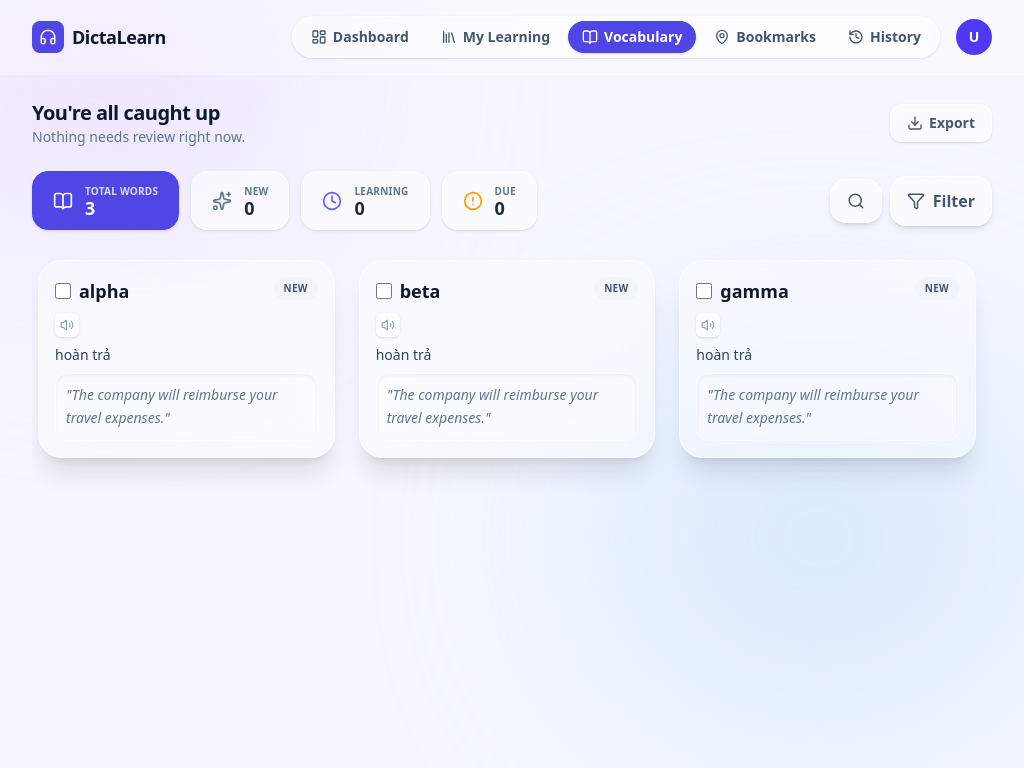
Scenario: VocabularyPage › multi-select and bulk delete › clears the selection via Clear selection
Expected: the number of elements with test id "vocab-card" is 3, [38, 260, 335, 458]; [359, 260, 655, 458]; [679, 260, 976, 458]
Click the checkbox named "Select alpha" at (63, 291), box [55, 283, 71, 299]
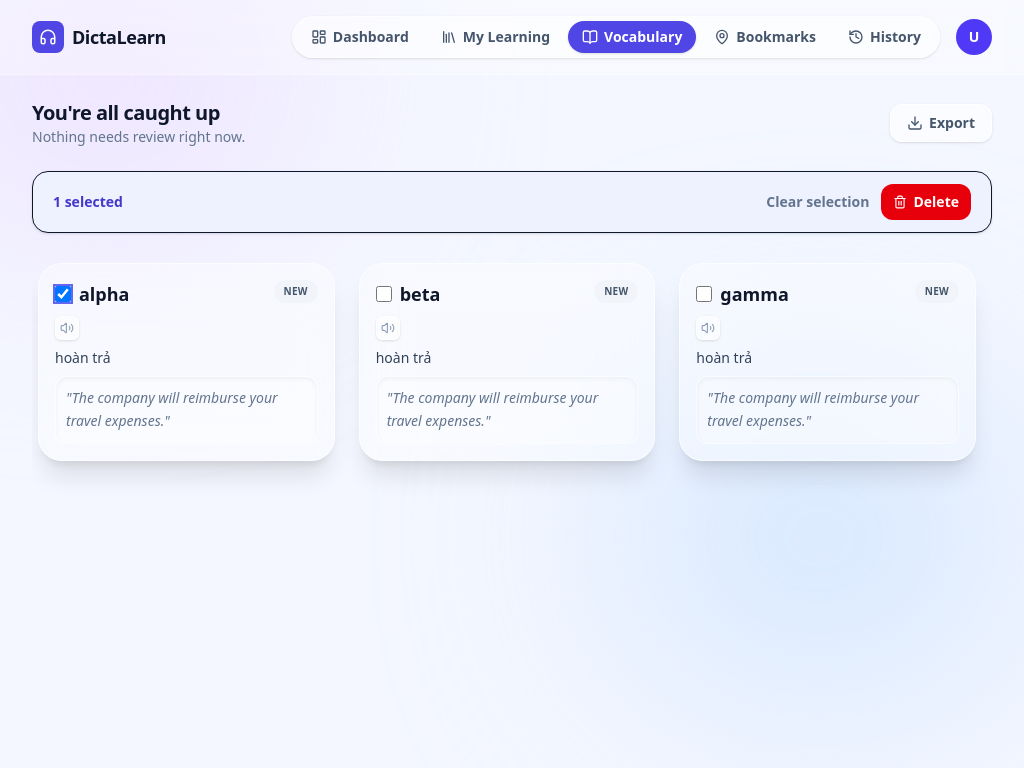
Click the button "Clear selection" at (818, 202), box [766, 192, 870, 212]
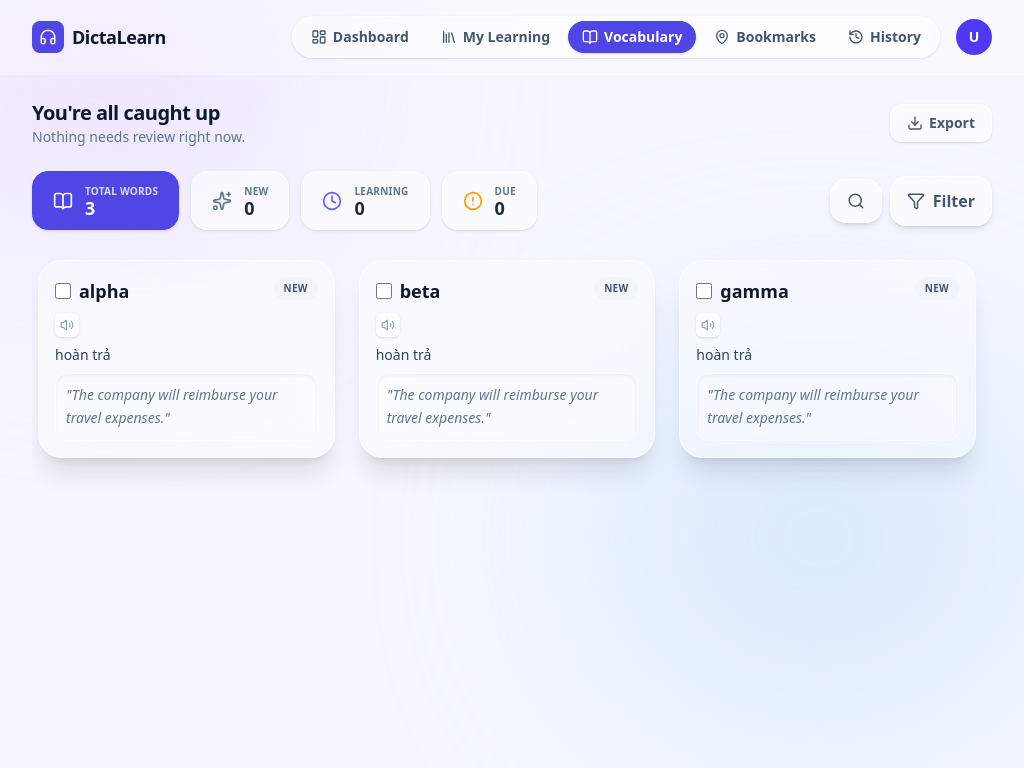
Expected: the checkbox named "Select alpha" is not checked, [55, 283, 71, 299]
Expected: the element with test id "vocab-bulk-bar" is gone
